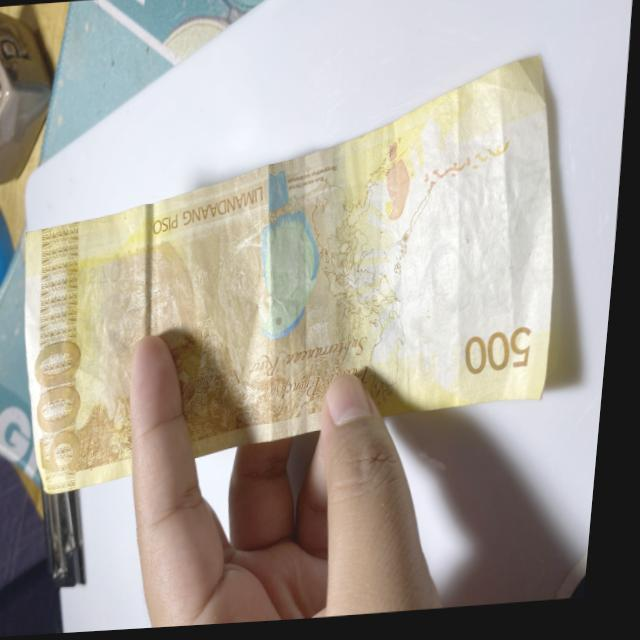500_big_parrot: (252, 165, 336, 345)
500_parrot_watermark: (376, 136, 423, 231)
value_watermark: (494, 186, 532, 251)
